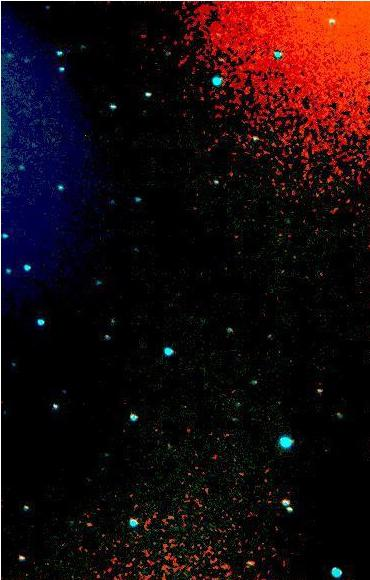star: (40, 125, 70, 155)
